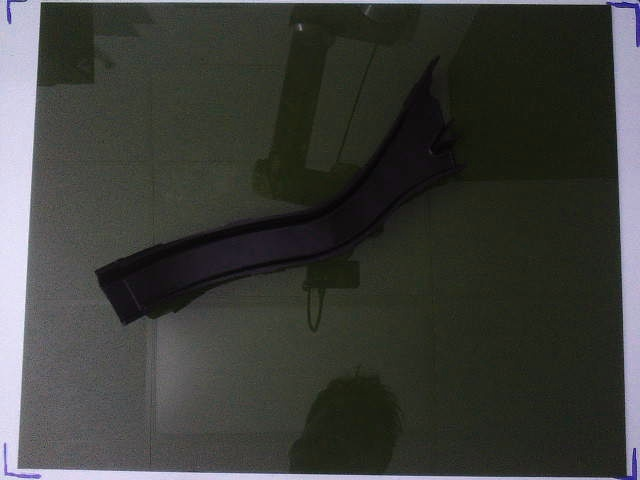887_B-Under: (96, 55, 464, 325)
